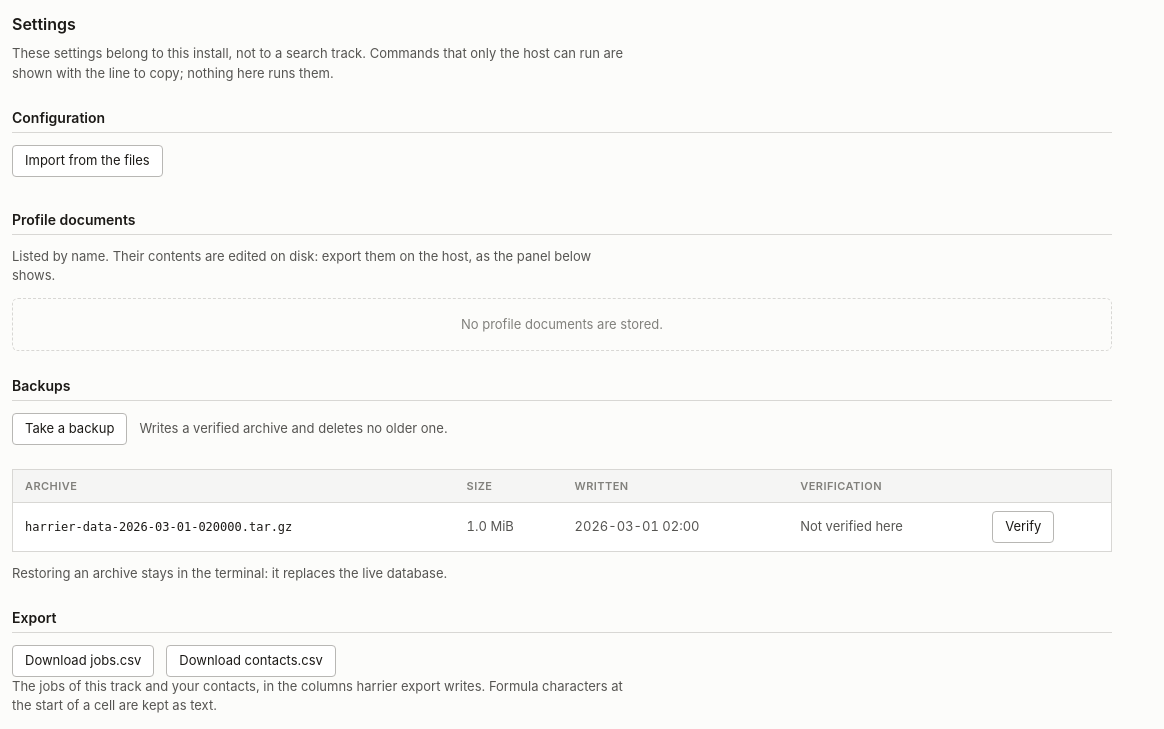
starting a backup clears a verification's refusal
Click the button "Verify".
click(1023, 527)  # box [992,511,1054,542]
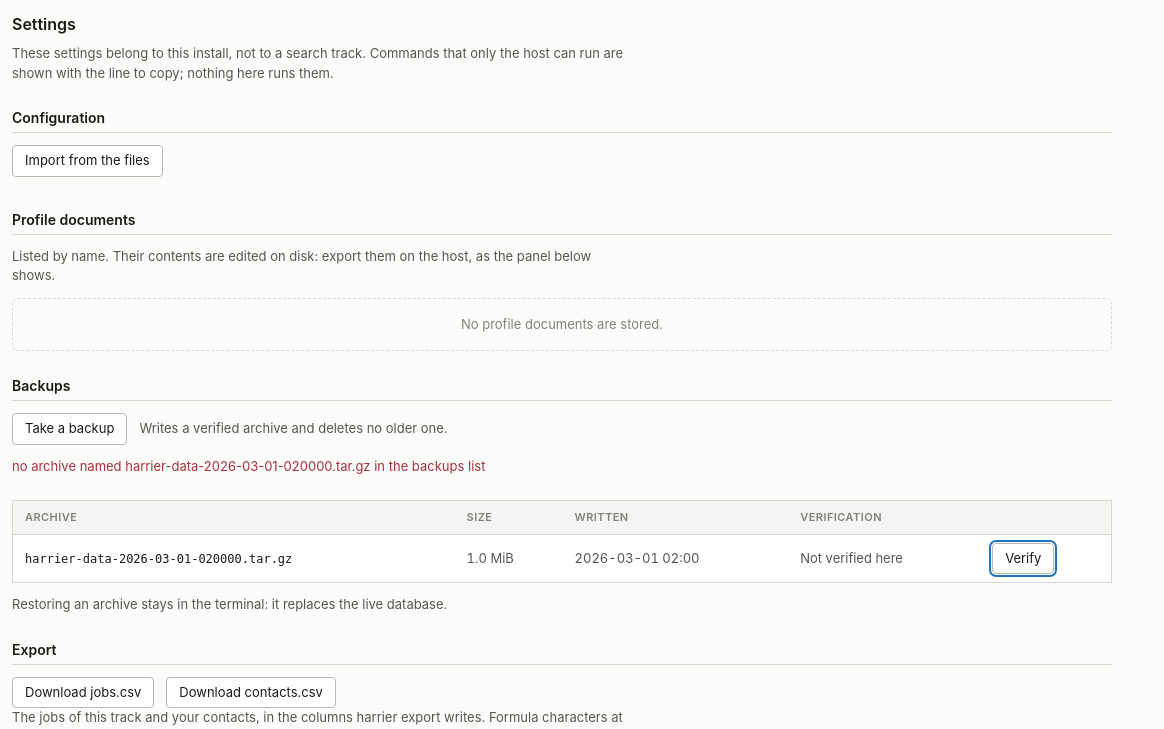
Check: the message shows "in the backups list", box [12,458,485,474]
Click the button "Take a backup".
click(70, 429)  # box [12,413,127,444]
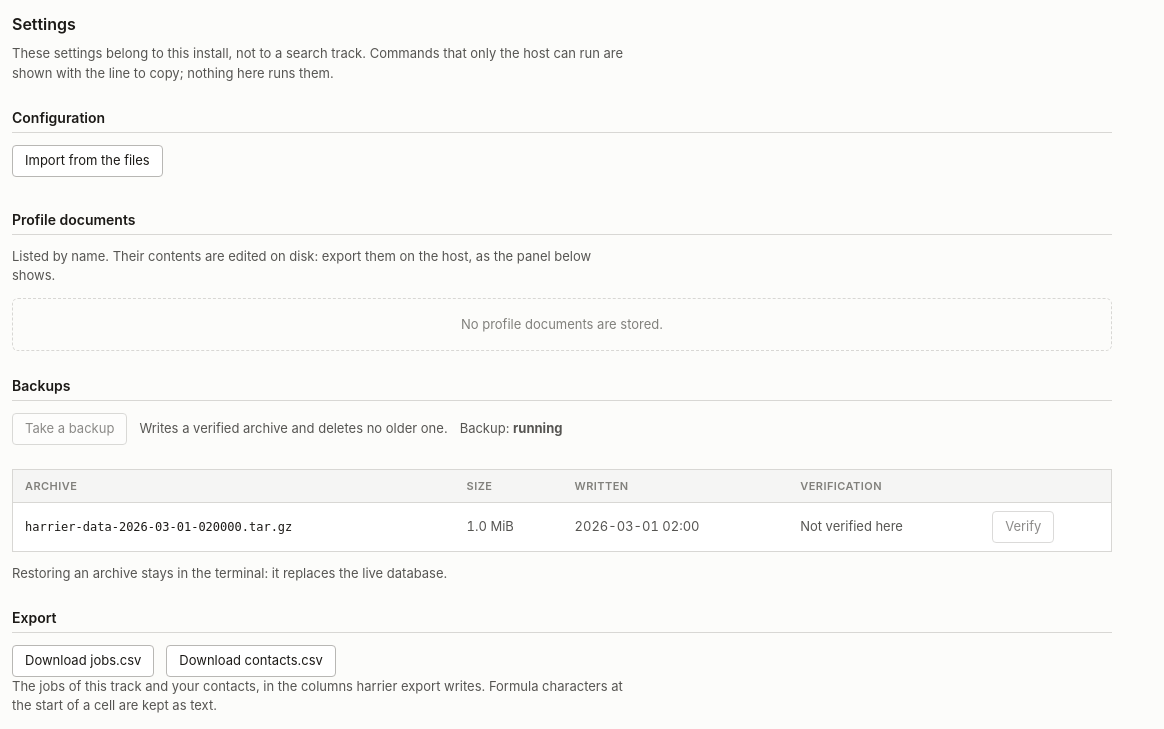
Check: the text "in the backups list" is gone
